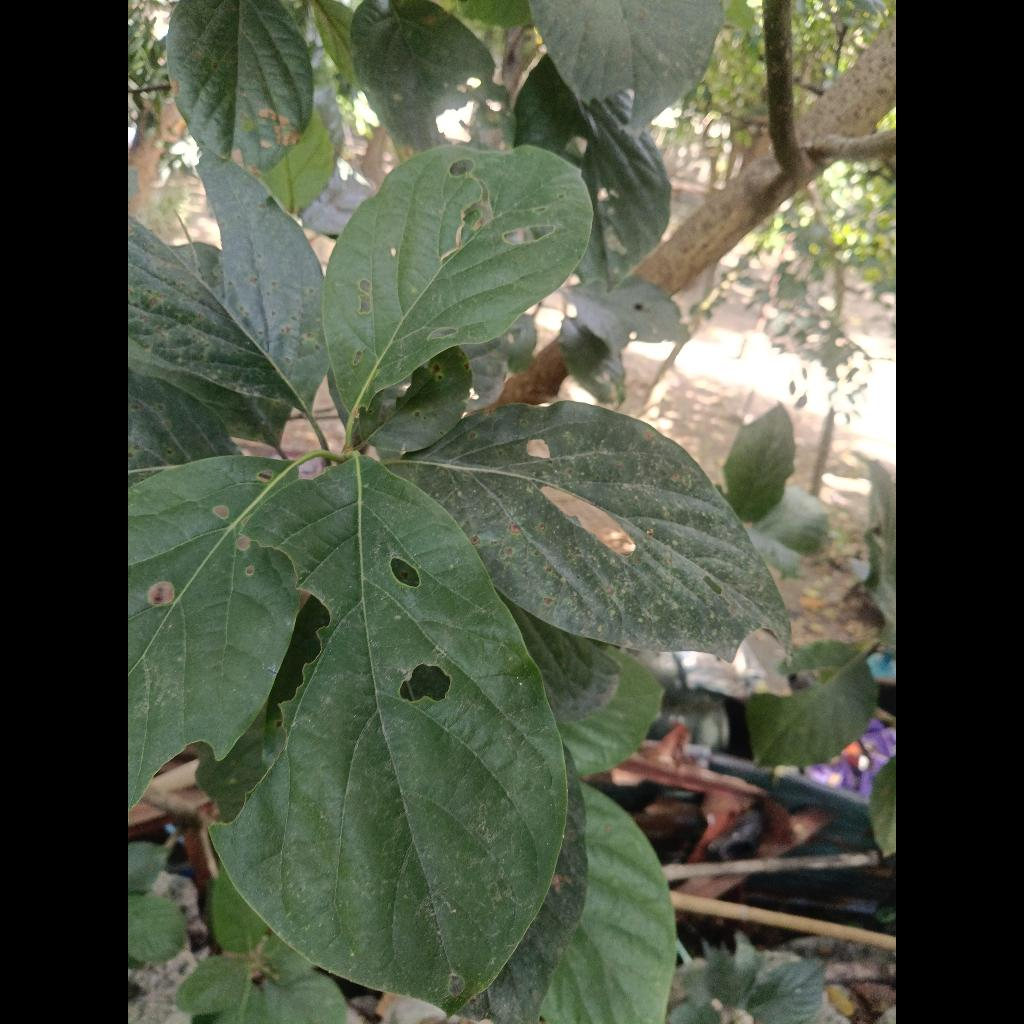Pest Infested: (212, 456, 567, 1013), (323, 146, 591, 411)
